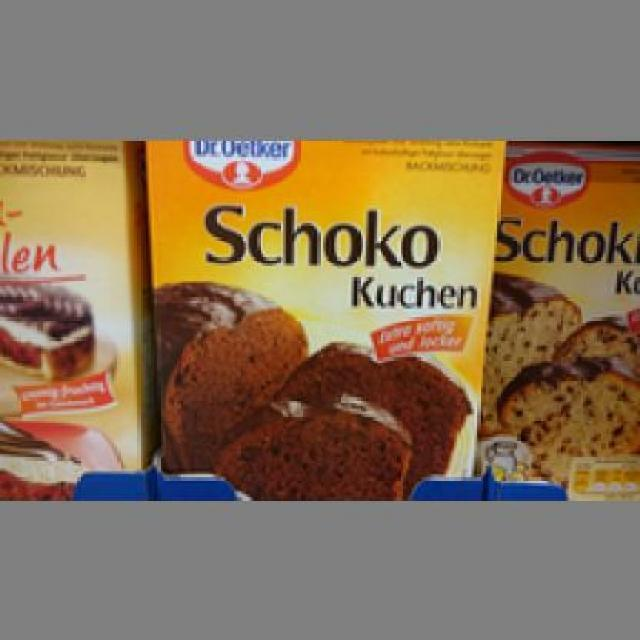Cake: (145, 137, 498, 497), (488, 137, 638, 486), (0, 136, 135, 472)
